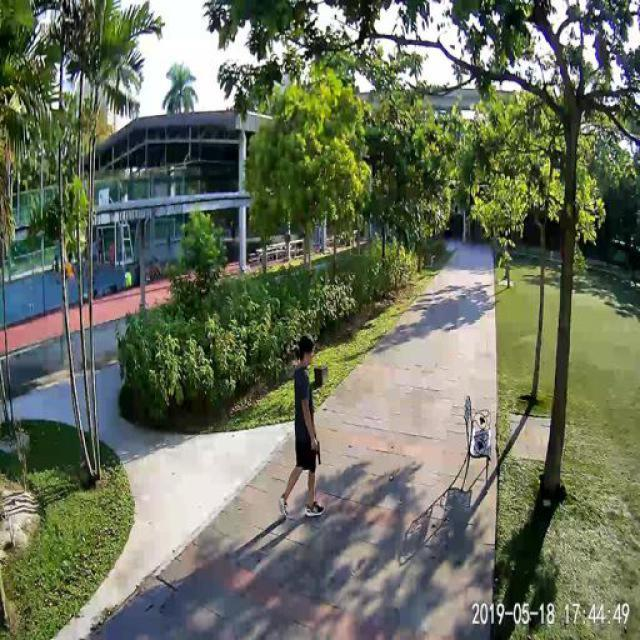weapon: (311, 438, 323, 467)
